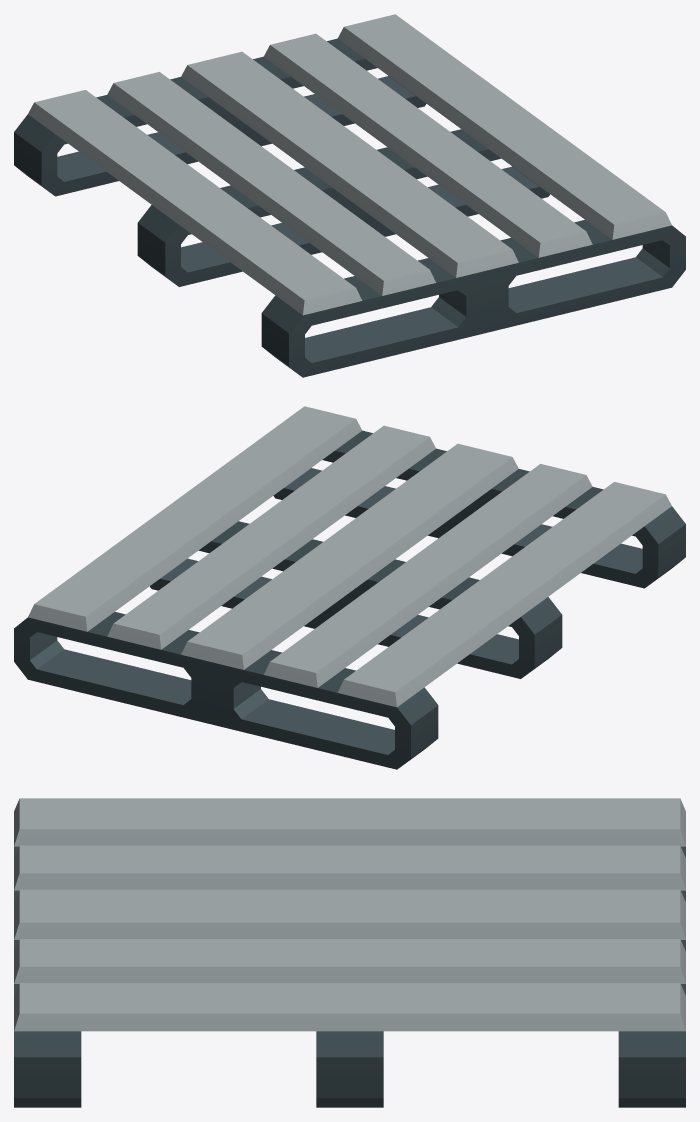
Rendered from Pallete_01.fbx.
3 views of the same model, one above another, from view 1: azimuth 30°, elevation 25°; view 2: azimuth 150°, elevation 25°; view 3: azimuth 270°, elevation 25° (orthographic). The views are drawn at different scales.
Parts seen in each view (by area): view 1: Pallete_01; view 2: Pallete_01; view 3: Pallete_01.
Boxes of the visible parts, left/top/right/bottom form: Pallete_01: left=14, top=14, right=685, bottom=377; Pallete_01: left=14, top=406, right=685, bottom=769; Pallete_01: left=14, top=798, right=685, bottom=1107.
Bounding box in the file's own units: 100 × 120 × 18.
